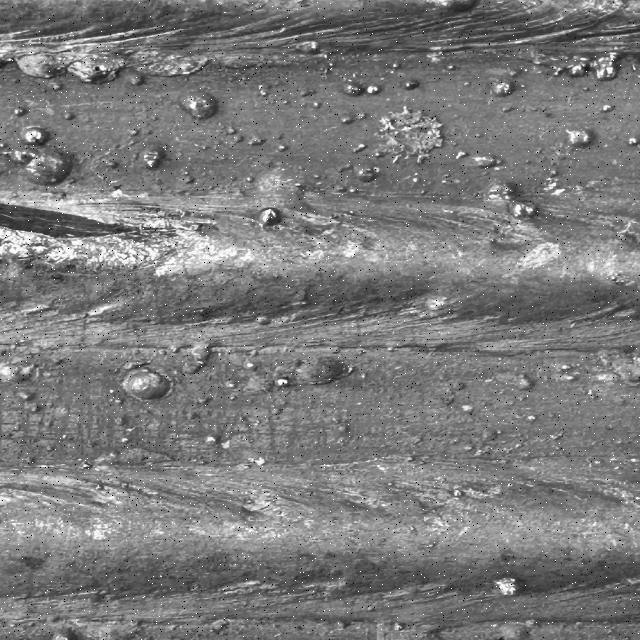Excess Reinforcement: (135, 55, 208, 76), (68, 58, 120, 84), (15, 54, 65, 79), (593, 52, 618, 81), (565, 58, 590, 78)
Spatters: (8, 150, 72, 185), (295, 358, 352, 385), (123, 369, 172, 400), (182, 92, 218, 119), (183, 342, 210, 374), (0, 364, 37, 382), (138, 145, 165, 169), (483, 181, 517, 200), (20, 126, 48, 145), (508, 201, 538, 218), (257, 208, 282, 226), (493, 578, 518, 596), (565, 130, 593, 146), (188, 342, 210, 362), (51, 629, 88, 640), (490, 80, 515, 96), (295, 41, 320, 55), (512, 374, 533, 390), (353, 168, 377, 182), (472, 156, 498, 168), (342, 112, 367, 124), (342, 82, 363, 96), (122, 361, 148, 370), (15, 391, 35, 401), (248, 135, 265, 146), (403, 80, 420, 90), (47, 81, 63, 91), (242, 360, 257, 370), (13, 106, 27, 116), (367, 85, 380, 95), (352, 144, 367, 152), (110, 180, 122, 190), (105, 160, 118, 169), (28, 404, 42, 412), (225, 126, 237, 135), (259, 85, 268, 96), (63, 112, 75, 120), (205, 436, 217, 444), (275, 379, 288, 386), (627, 138, 640, 145), (225, 381, 235, 389), (185, 176, 195, 184), (462, 405, 473, 412), (602, 105, 613, 112), (561, 375, 573, 381), (458, 151, 467, 159), (312, 102, 322, 109), (197, 399, 210, 404), (278, 145, 288, 151), (560, 365, 572, 370), (245, 176, 255, 182), (115, 399, 122, 404), (314, 175, 322, 179)
